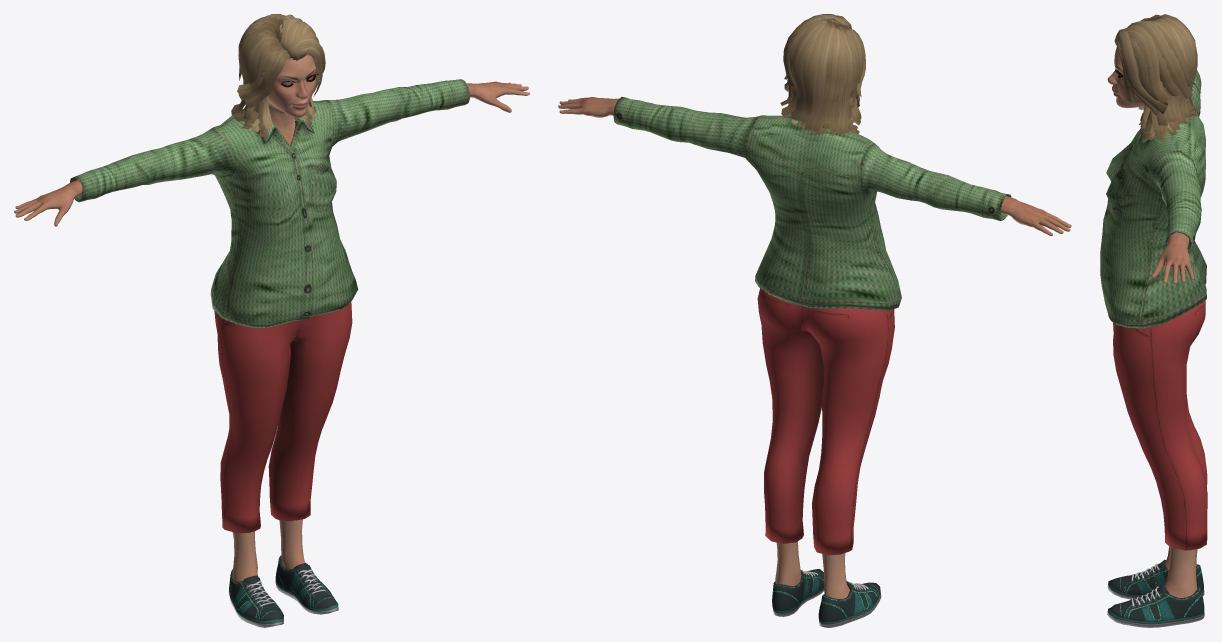
The model's file is Woman A.obj.
3 renders of one model, left to right at view 1: azimuth 30°, elevation 25°; view 2: azimuth 150°, elevation 25°; view 3: azimuth 270°, elevation 25°, orthographic.
Parts seen in each view (by area): view 1: Tops, Bottoms, Body, Hair, Shoes; view 2: Tops, Bottoms, Hair, Body, Shoes; view 3: Tops, Bottoms, Hair, Shoes, Body.
Boxes of the visible parts, x1,y1,x2,y2 form: Tops: (70, 79, 470, 327); Bottoms: (214, 302, 352, 533); Body: (14, 54, 529, 581); Hair: (231, 14, 325, 137); Shoes: (229, 555, 338, 627); Tops: (613, 97, 1011, 310); Bottoms: (757, 288, 894, 555); Hair: (780, 14, 865, 135); Body: (558, 97, 1071, 598); Shoes: (772, 569, 881, 627); Tops: (1100, 70, 1206, 328); Bottoms: (1113, 285, 1207, 550); Hair: (1114, 14, 1197, 140); Shoes: (1107, 559, 1204, 627); Body: (1107, 46, 1197, 597).
Size of the model in its own units: 159 by 174 by 28.91.
Materials: 5 (5 with a texture image).
